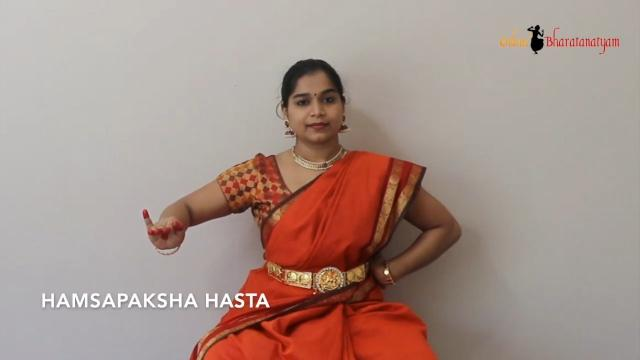Hamsapaksha: (125, 191, 203, 267)
